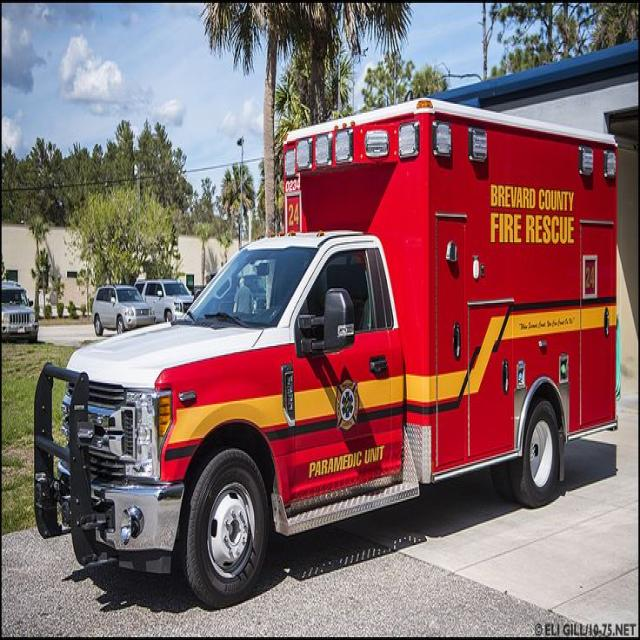Firetruck: (26, 93, 620, 614)
